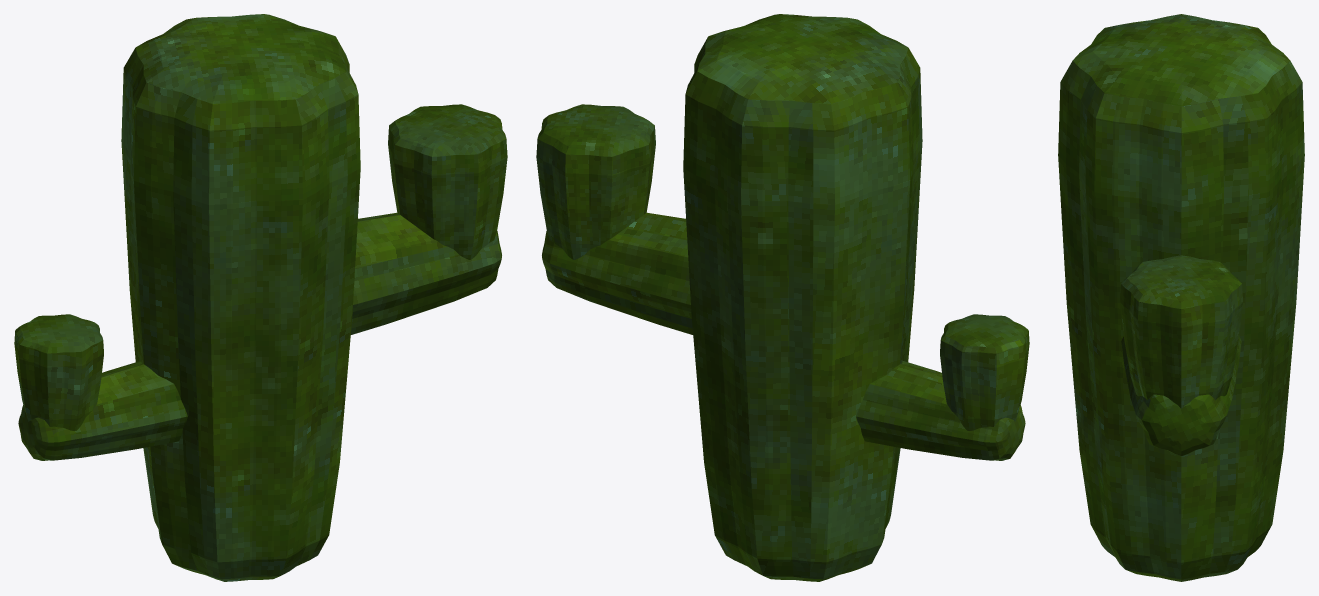
Rendered from Cactus.fbx.
3 renders of one model, left to right at view 1: azimuth 30°, elevation 25°; view 2: azimuth 150°, elevation 25°; view 3: azimuth 270°, elevation 25°, orthographic.
Visible parts, largest first — view 1: Cactus; view 2: Cactus; view 3: Cactus.
Part boxes in pixels (x1=…): Cactus: x1=14, y1=14, x2=507, y2=581; Cactus: x1=536, y1=14, x2=1029, y2=581; Cactus: x1=1058, y1=14, x2=1304, y2=581.
Size of the model in its own units: 194 by 200 by 86.29.
1 material, 1 textured.
